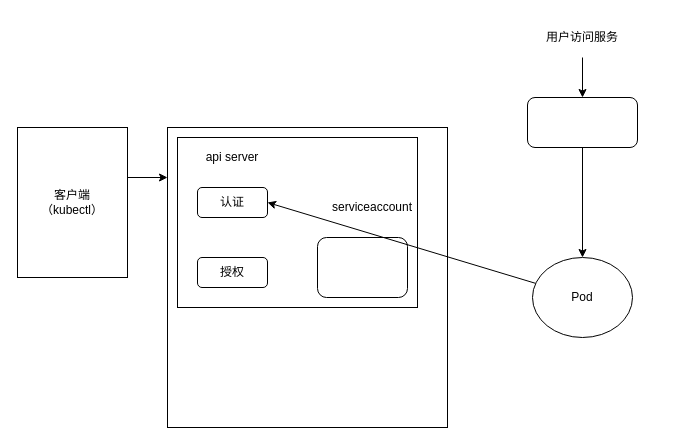
Some shapes in this 675 by 445 pixel diagram are drawn without their labels. Each missing label, with the centre of its shape:
"Node" belongs at [582,122].
"准入控制" belongs at [362,267].
